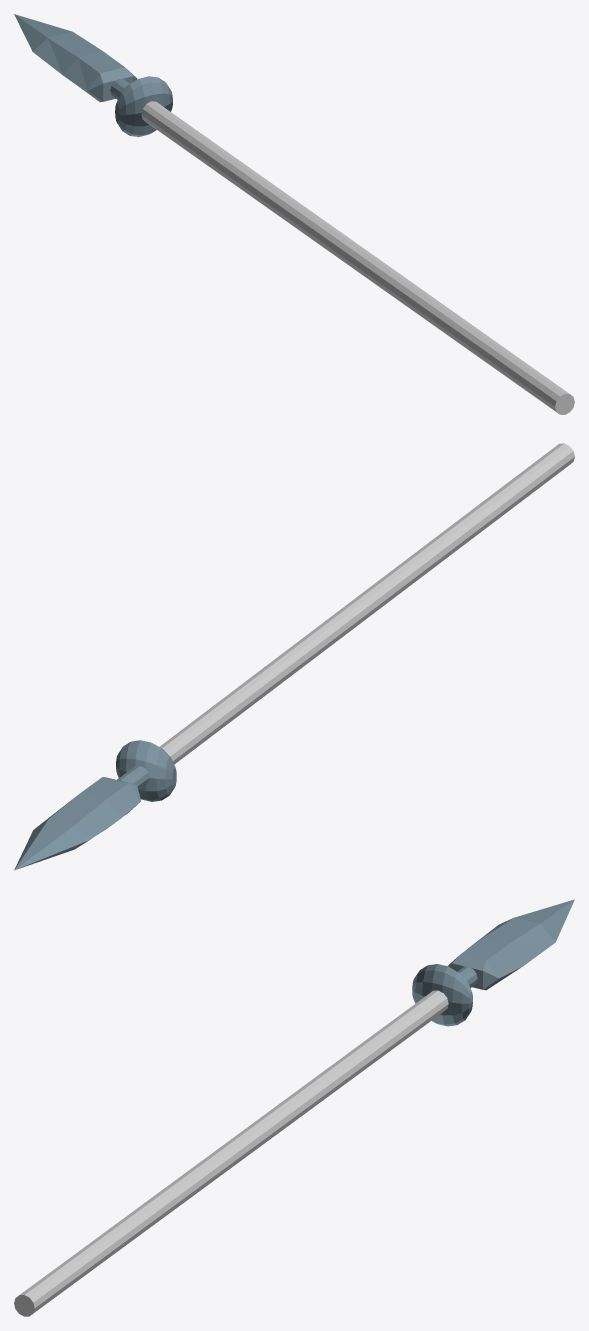
3 renders of one model, top to bottom at view 1: azimuth 30°, elevation 25°; view 2: azimuth 150°, elevation 25°; view 3: azimuth 330°, elevation 25°, orthographic. The views are drawn at different scales.
Parts seen in each view (by area): view 1: group893075455, group2055073732, group910683261; view 2: group893075455, group2055073732, group910683261; view 3: group893075455, group2055073732, group910683261.
Part boxes in pixels (x1,y1,x2,y2): group893075455: (141,101,574,414); group2055073732: (14,14,137,102); group910683261: (115,76,172,136); group893075455: (159,443,574,764); group2055073732: (14,777,140,870); group910683261: (116,740,176,801); group893075455: (14,990,448,1316); group2055073732: (448,899,574,990); group910683261: (412,964,472,1026).
Bounding box in the file's own units: 0.2299 × 0.221 × 3.75.
